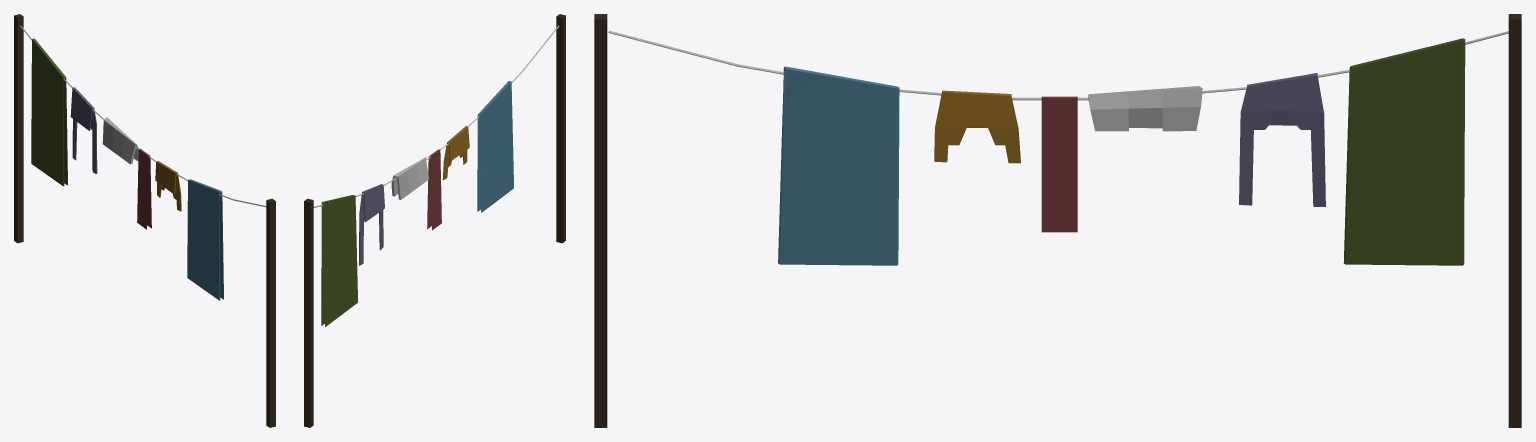
File: Model_Pranie_Slupki.fbx
The picture shows the model from 3 angles, left to right: view 1: azimuth 30°, elevation 25°; view 2: azimuth 150°, elevation 25°; view 3: azimuth 270°, elevation 25°; orthographic projection. The views are drawn at different scales.
Visible parts, largest first — view 1: Mesh_Pranie_Slupki; view 2: Mesh_Pranie_Slupki; view 3: Mesh_Pranie_Slupki.
Part boxes in pixels (x1=…): Mesh_Pranie_Slupki: x1=14, y1=14, x2=275, y2=427; Mesh_Pranie_Slupki: x1=304, y1=14, x2=565, y2=427; Mesh_Pranie_Slupki: x1=594, y1=14, x2=1521, y2=427.
Size of the model in its own units: 411 by 200 by 8.65.
